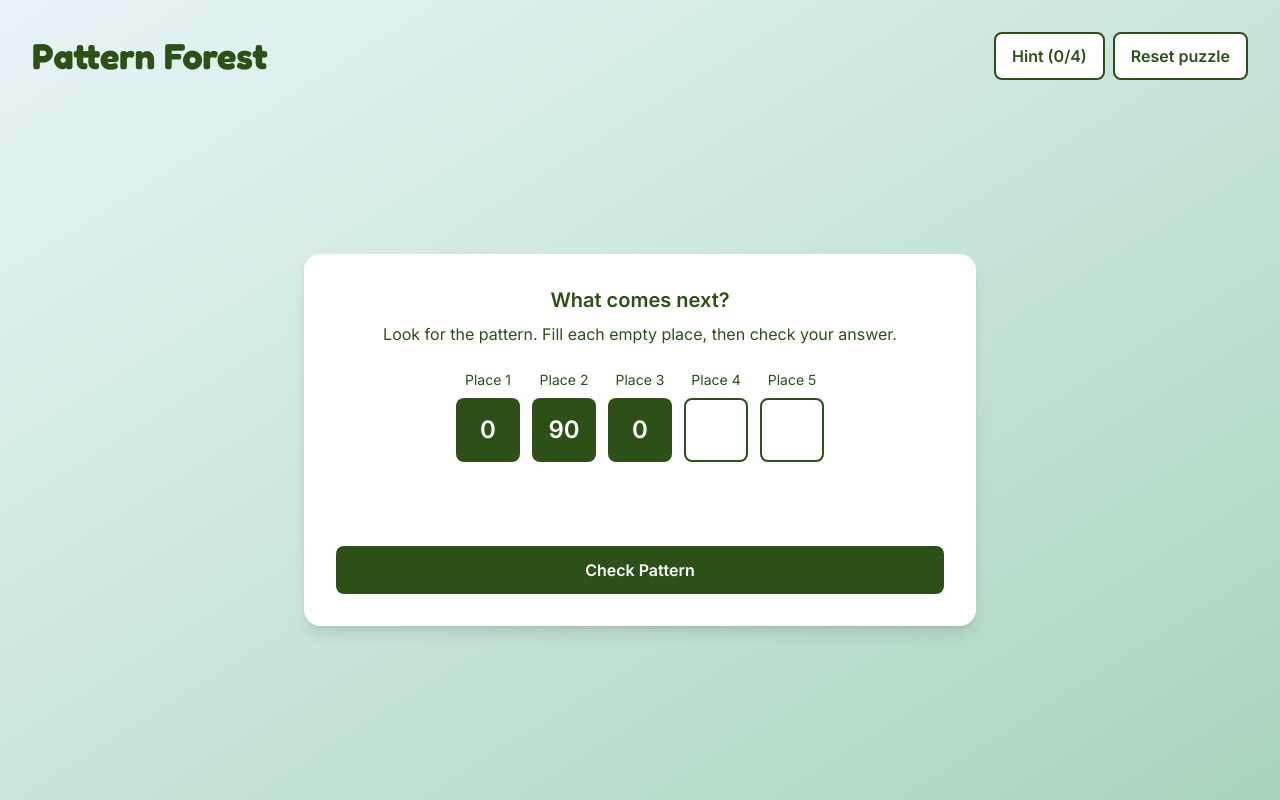
Test case: Pattern controls › explains missing answers and exposes labelled numeric answers for number patterns
Expected: the 1st number field named "Answer for place 4" is shown, [684,398,748,462]
Expected: the 2nd number field named "Answer for place 5" is shown, [760,398,824,462]
Click the button "Check Pattern".
click(640, 570)  # box [336,546,944,594]
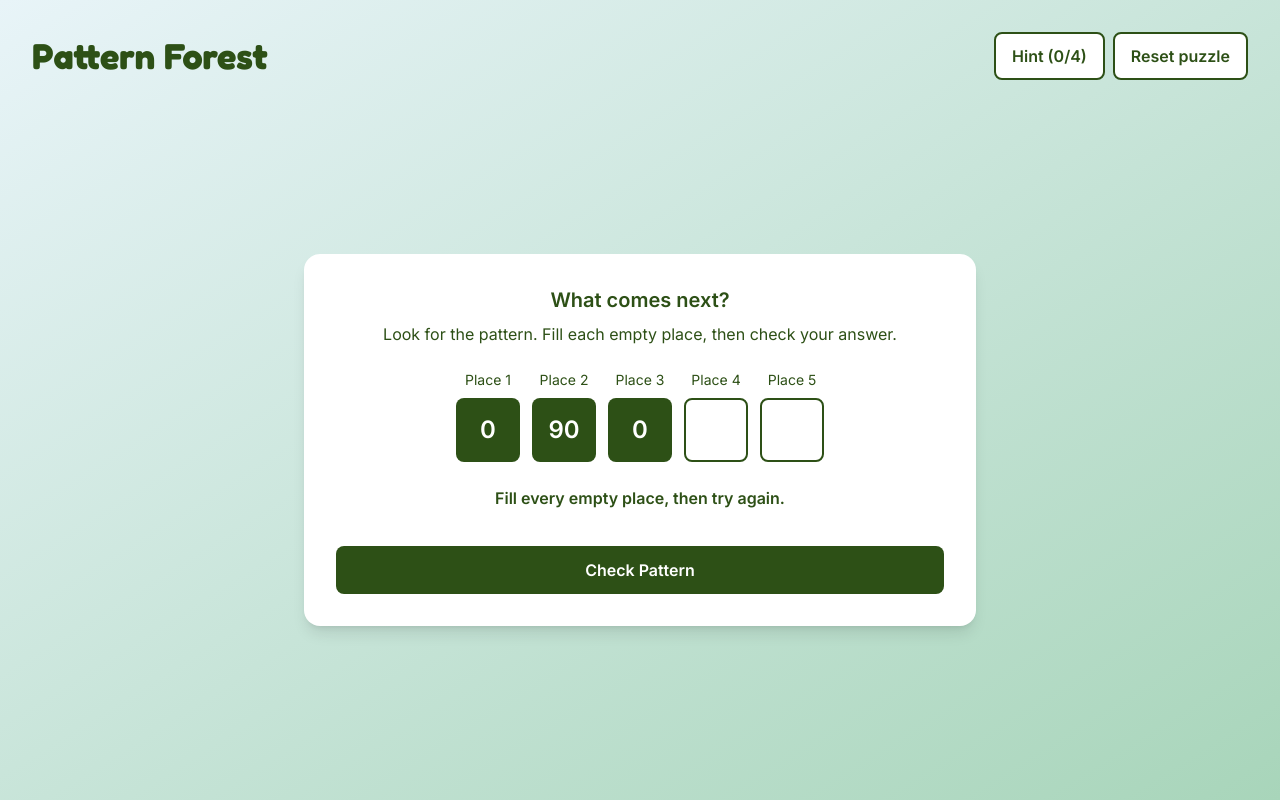
Result: the text "Fill every empty place, then try again." is shown at [495,488,785,508]
